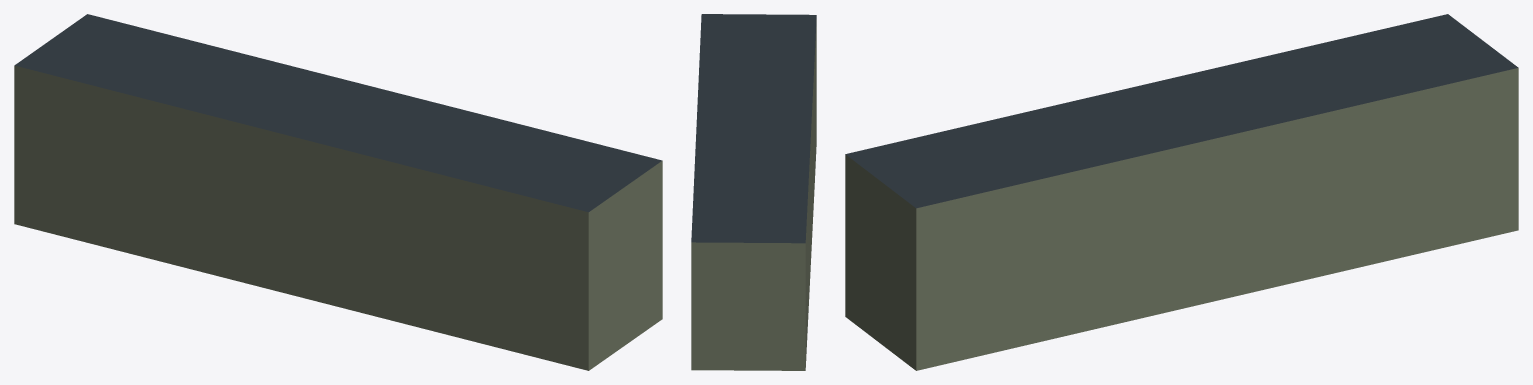
Rendered from nyc-1034236-0.glb.
The picture shows the model from 3 angles, left to right: view 1: azimuth 30°, elevation 25°; view 2: azimuth 150°, elevation 25°; view 3: azimuth 270°, elevation 25°; orthographic projection. The views are drawn at different scales.
Visible parts, largest first — view 1: nyc-1034236-0; view 2: nyc-1034236-0; view 3: nyc-1034236-0.
Boxes of the visible parts, left/top/right/bottom form: nyc-1034236-0: left=14, top=14, right=662, bottom=370; nyc-1034236-0: left=691, top=14, right=816, bottom=370; nyc-1034236-0: left=845, top=14, right=1518, bottom=370.
Size of the model in its own units: 18.54 by 7.23 by 27.14.
